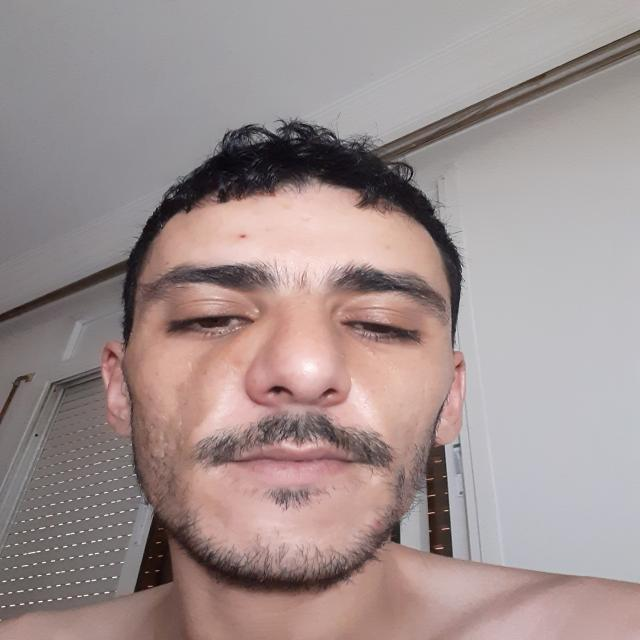acne: (230, 356, 244, 370), (237, 232, 248, 240)
pores: (136, 416, 188, 466), (136, 385, 166, 412)
